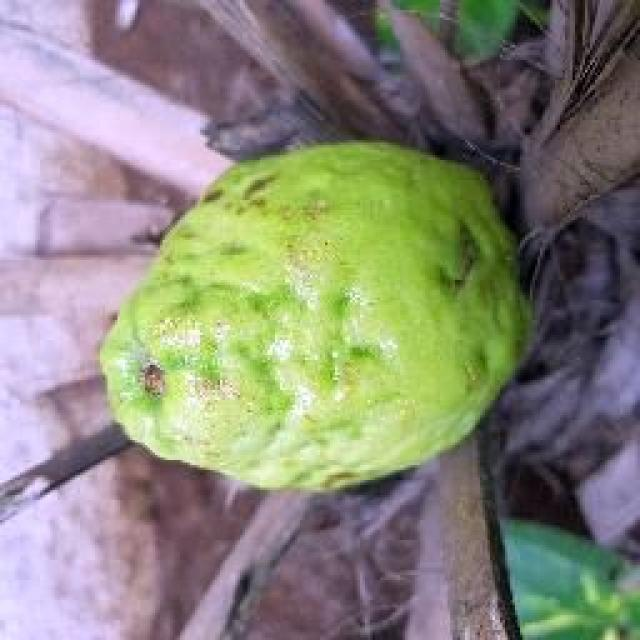Good_Guava: (98, 142, 530, 495)
